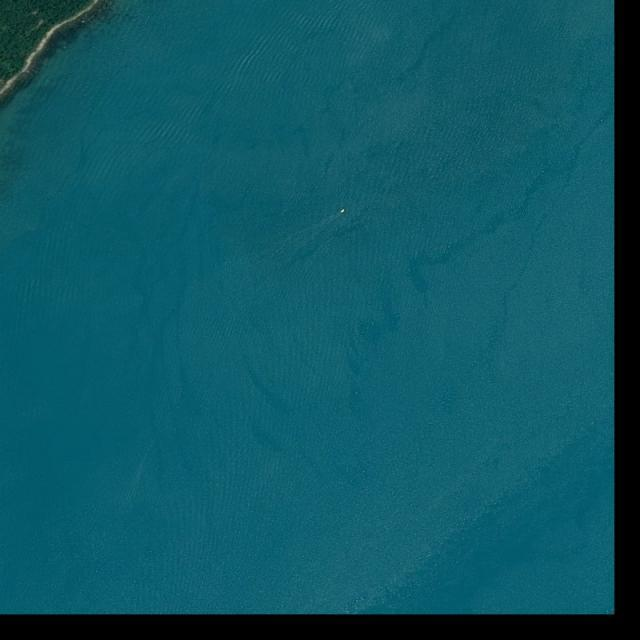ship: (340, 209, 346, 214)
